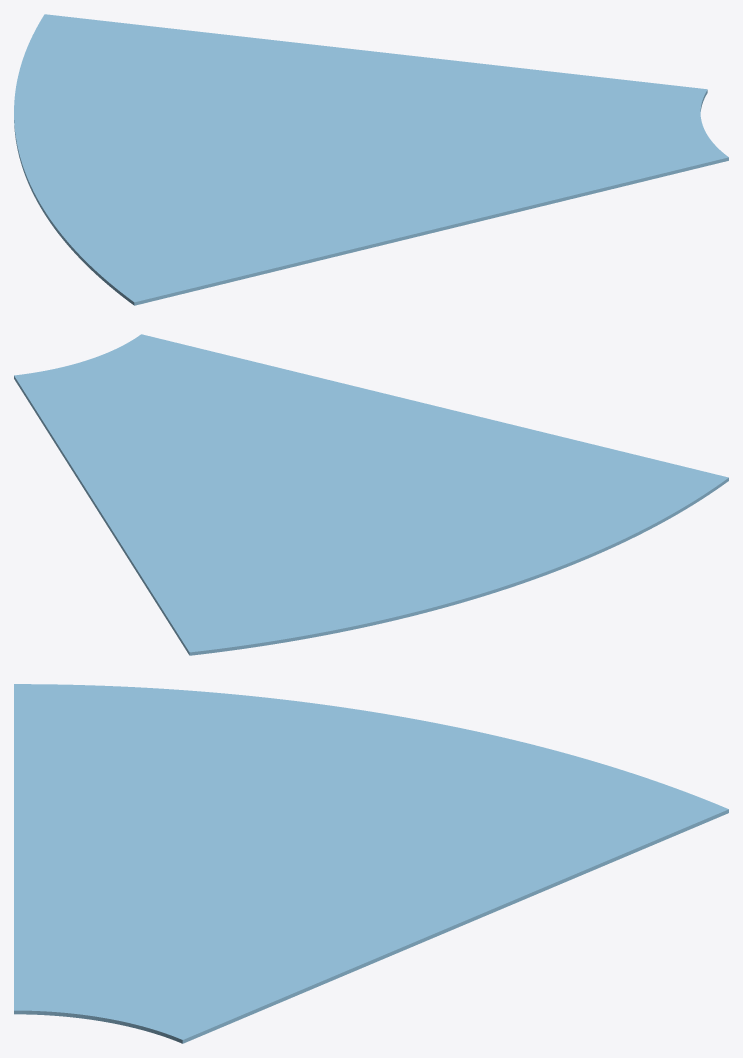
The picture shows the model from 3 angles, top to bottom: view 1: azimuth 30°, elevation 25°; view 2: azimuth 150°, elevation 25°; view 3: azimuth 270°, elevation 25°; orthographic projection. The views are drawn at different scales.
Visible parts, largest first — view 1: 5e2a028f8b9d8f144a85caa0; view 2: 5e2a028f8b9d8f144a85caa0; view 3: 5e2a028f8b9d8f144a85caa0.
Boxes of the visible parts, box(x1,y1,x2,y2) form: 5e2a028f8b9d8f144a85caa0: box(14, 14, 728, 305); 5e2a028f8b9d8f144a85caa0: box(14, 334, 728, 655); 5e2a028f8b9d8f144a85caa0: box(14, 684, 728, 1043).
Bounding box in the file's own units: 0.5998 × 0.5091 × 0.003.
